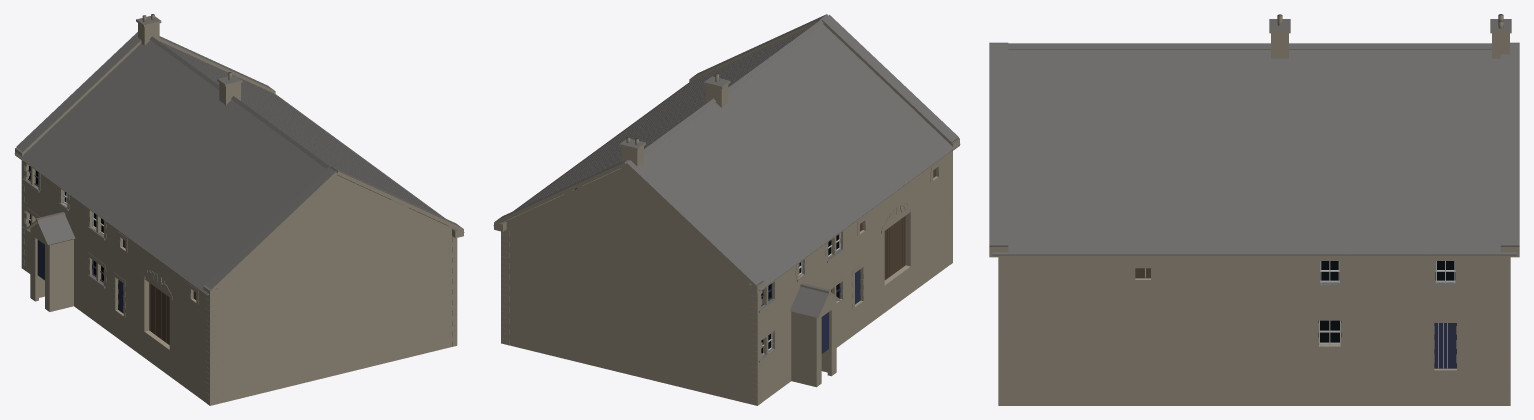
File: context.dales.house_27.glb
3 views of the same model, side by side, from view 1: azimuth 30°, elevation 25°; view 2: azimuth 150°, elevation 25°; view 3: azimuth 270°, elevation 25° (orthographic). The views are drawn at different scales.
Visible parts, largest first — view 1: main__stone_a98, main__slate_666, main__paint_654, main__paint_335; view 2: main__stone_a98, main__slate_666, main__paint_654, main__paint_335; view 3: main__slate_666, main__stone_a98, main__glass_dark, main__paint_335, main__paint_ccc.
Boxes of the visible parts, x1=… form: main__stone_a98: x1=15, y1=15, x2=464, y2=405; main__slate_666: x1=14, y1=14, x2=463, y2=400; main__paint_654: x1=149, y1=283, x2=196, y2=344; main__paint_335: x1=28, y1=170, x2=123, y2=313; main__stone_a98: x1=493, y1=19, x2=959, y2=405; main__slate_666: x1=494, y1=14, x2=960, y2=399; main__paint_654: x1=884, y1=169, x2=935, y2=280; main__paint_335: x1=761, y1=269, x2=860, y2=353; main__slate_666: x1=989, y1=14, x2=1519, y2=398; main__stone_a98: x1=989, y1=15, x2=1519, y2=405; main__glass_dark: x1=1318, y1=261, x2=1455, y2=342; main__paint_335: x1=1434, y1=323, x2=1456, y2=368; main__paint_ccc: x1=1319, y1=261, x2=1455, y2=344.
Size of the model in its own units: 16.71 by 12.98 by 20.2.
